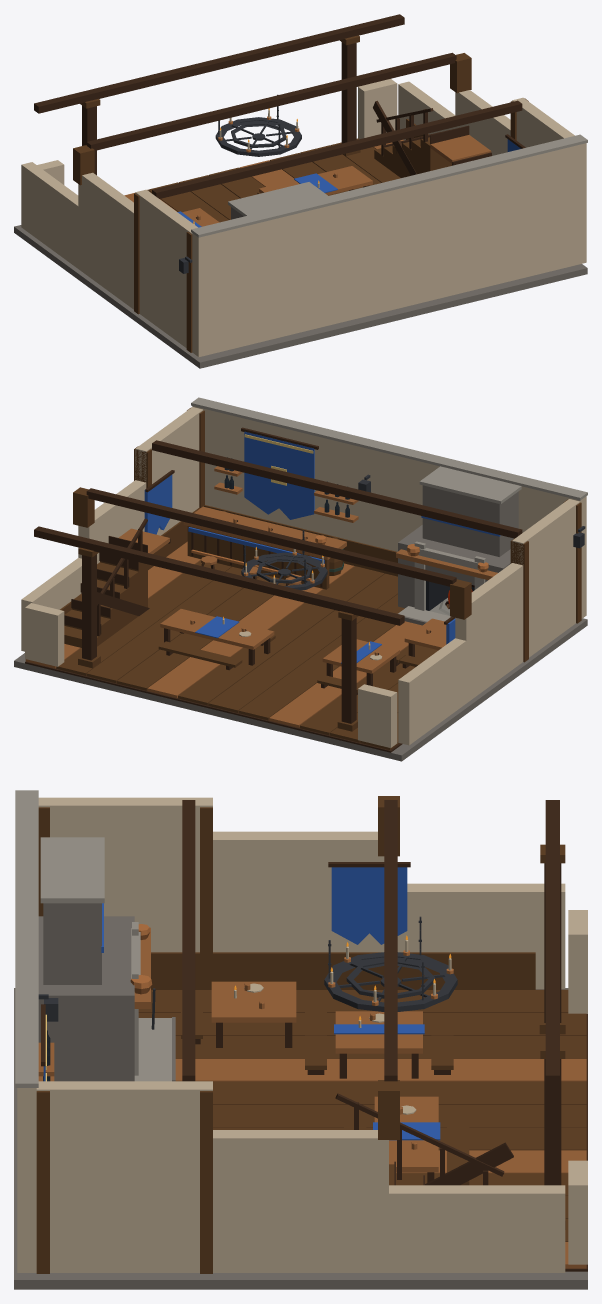
File: 酒馆内部_手游_远.glb
3 views of the same model, one above another, from view 1: azimuth 30°, elevation 25°; view 2: azimuth 150°, elevation 25°; view 3: azimuth 270°, elevation 25° (orthographic). The views are drawn at different scales.
Visible parts, largest first — view 1: TV-主体, TV-team; view 2: TV-主体, TV-team; view 3: TV-主体, TV-team.
Boxes of the visible parts, <box> form: TV-主体: <box>14,14,587,368</box>; TV-team: <box>177,139,520,227</box>; TV-主体: <box>14,397,587,761</box>; TV-team: <box>144,431,500,663</box>; TV-主体: <box>14,790,587,1289</box>; TV-team: <box>43,867,440,1140</box>.
Size of the model in its own units: 10.83 by 3.49 by 8.8.
Materials: 4 (2 with a texture image).
